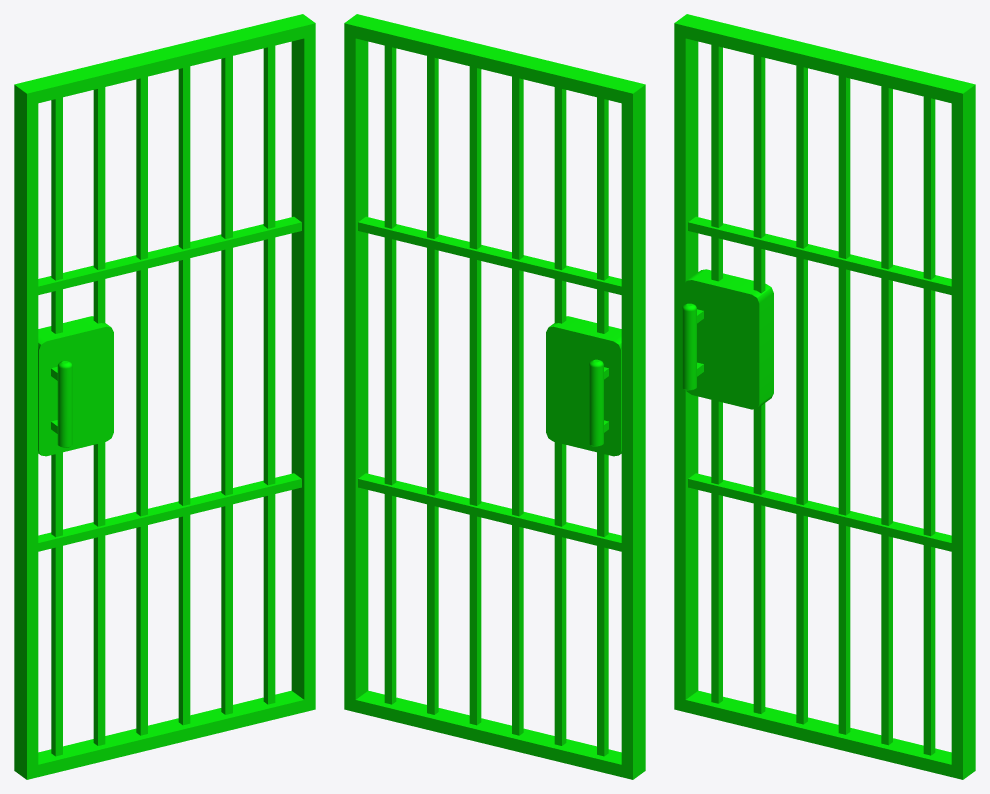
File: Gate01(1).fbx
The picture shows the model from 3 angles, left to right: view 1: azimuth 30°, elevation 25°; view 2: azimuth 150°, elevation 25°; view 3: azimuth 330°, elevation 25°; orthographic projection.
Parts seen in each view (by area): view 1: IronDoor; view 2: IronDoor; view 3: IronDoor.
Boxes of the visible parts, bbox=[...] form: IronDoor: bbox=[14, 14, 315, 779]; IronDoor: bbox=[344, 14, 645, 779]; IronDoor: bbox=[674, 14, 975, 779].
Size of the model in its own units: 6.06 by 13.76 by 1.51.
